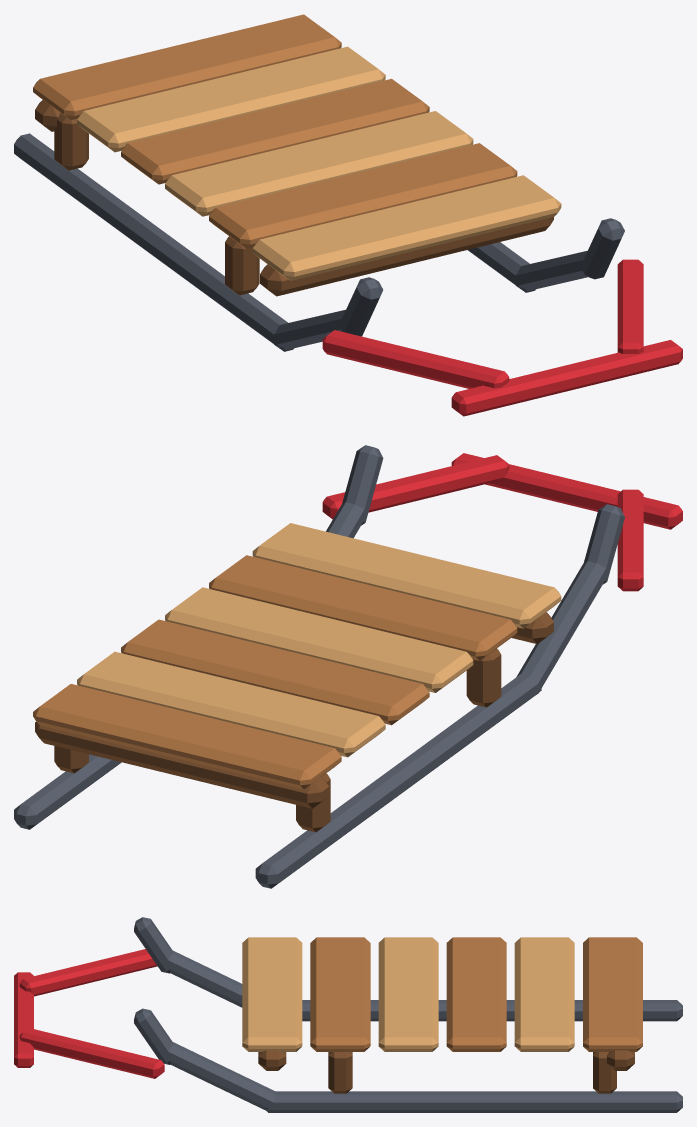
File: vuena-prop-sled.glb
The picture shows the model from 3 angles, top to bottom: view 1: azimuth 30°, elevation 25°; view 2: azimuth 150°, elevation 25°; view 3: azimuth 270°, elevation 25°; orthographic projection. The views are drawn at different scales.
Parts seen in each view (by area): view 1: sled; view 2: sled; view 3: sled.
Part boxes in pixels (x1,y1,x2,y2): sled: (14, 14, 682, 416); sled: (14, 445, 682, 888); sled: (14, 917, 682, 1112).
Bounding box in the file's own units: 0.7134 × 0.2781 × 1.67.
1 material, 1 textured.
